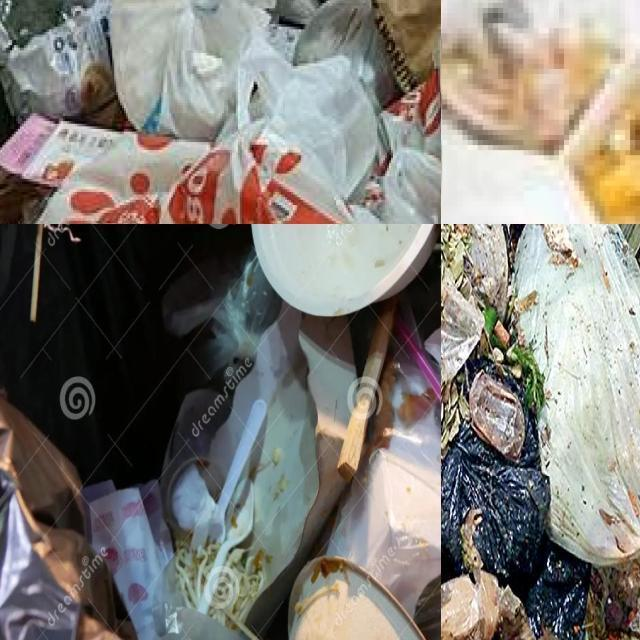Disposable: (441, 0, 637, 151), (441, 120, 600, 224), (192, 398, 267, 614), (161, 388, 233, 527), (469, 371, 525, 461), (441, 287, 484, 381)
Garbage: (75, 224, 441, 640), (441, 224, 640, 640), (441, 0, 640, 224)
Plastic_Bag: (513, 224, 640, 565), (328, 351, 441, 615), (441, 413, 550, 579), (163, 250, 281, 379), (526, 547, 590, 640), (470, 224, 509, 319), (155, 603, 249, 640)
Plastic_Container: (251, 224, 437, 316)
Plastic_Straw: (394, 312, 441, 402)
